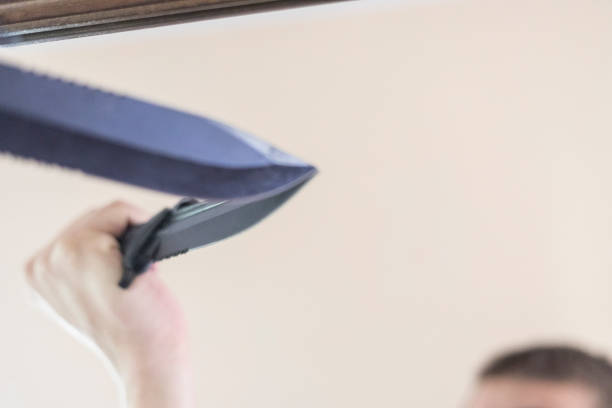knife: (0, 65, 323, 202), (115, 169, 319, 290)
